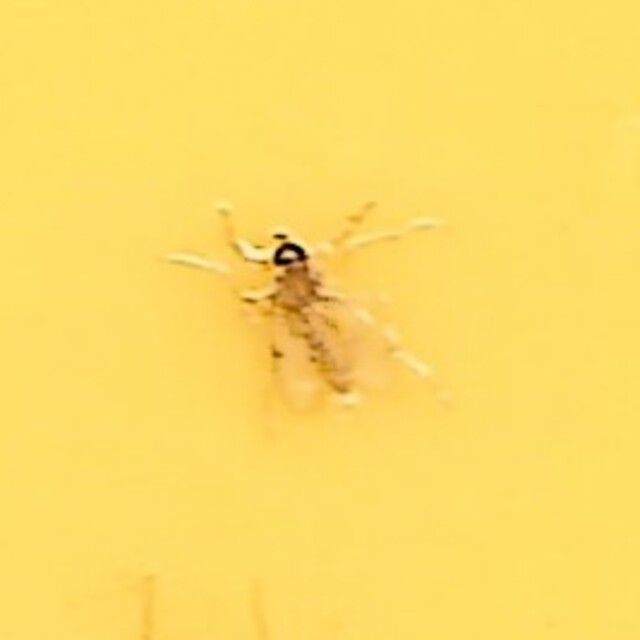Nematocera: (240, 224, 400, 416)
